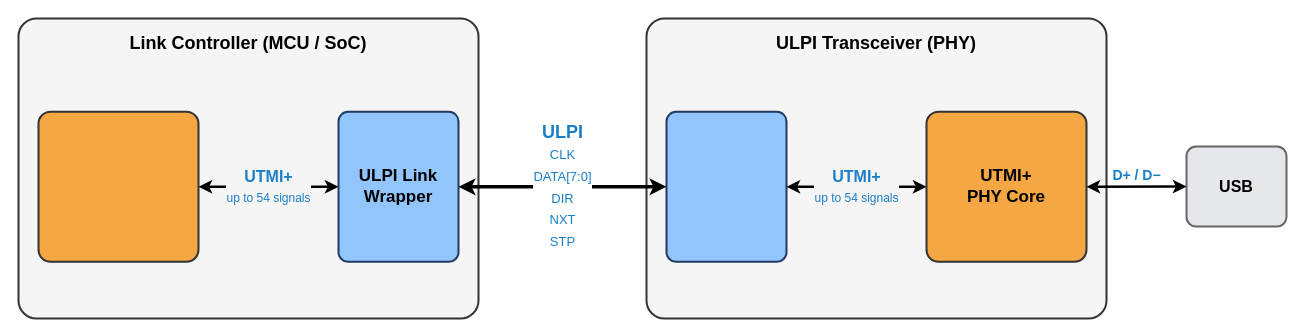
The diagram is 1304 pixels wide and 336 high, and some of its shapes have lost their labels. Each missing label, with the centre of its shape:
"ULPI PHY Wrapper" belongs at (x=726, y=186).
"UTMI+ Link Core" belongs at (x=118, y=186).
